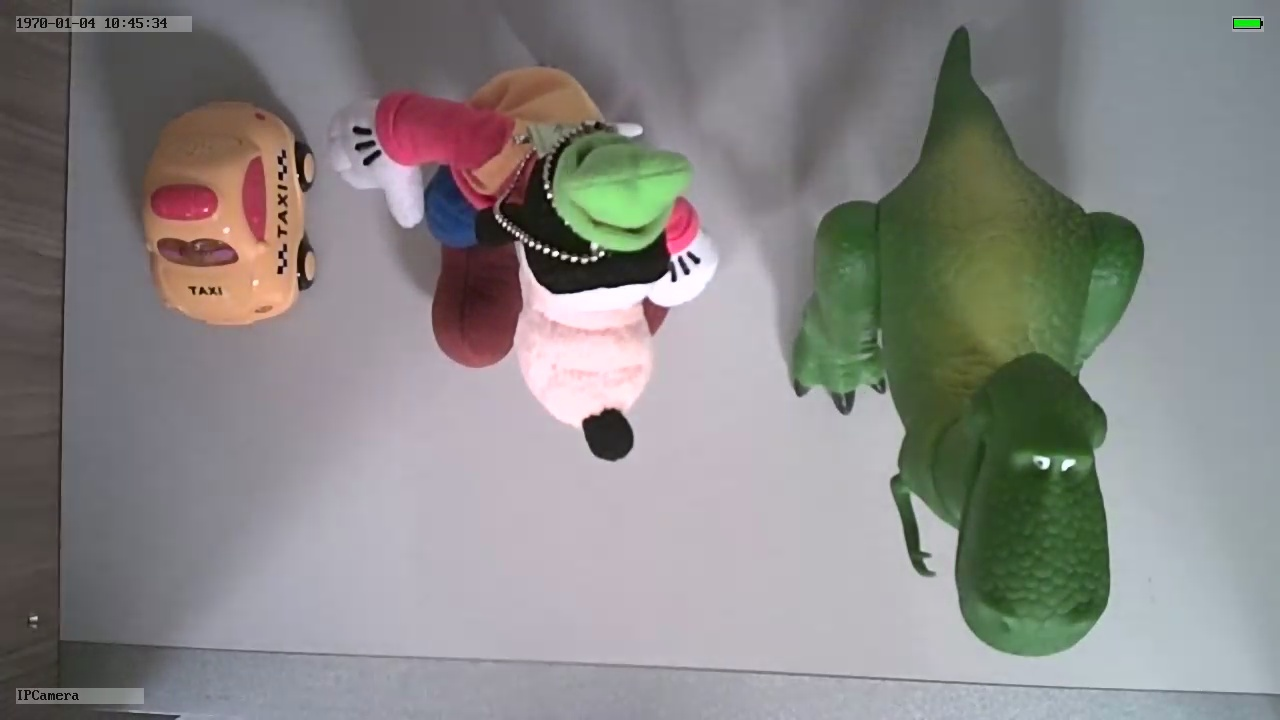car: (138, 94, 318, 328)
goofy: (330, 66, 721, 464)
rex: (792, 123, 1148, 656)
